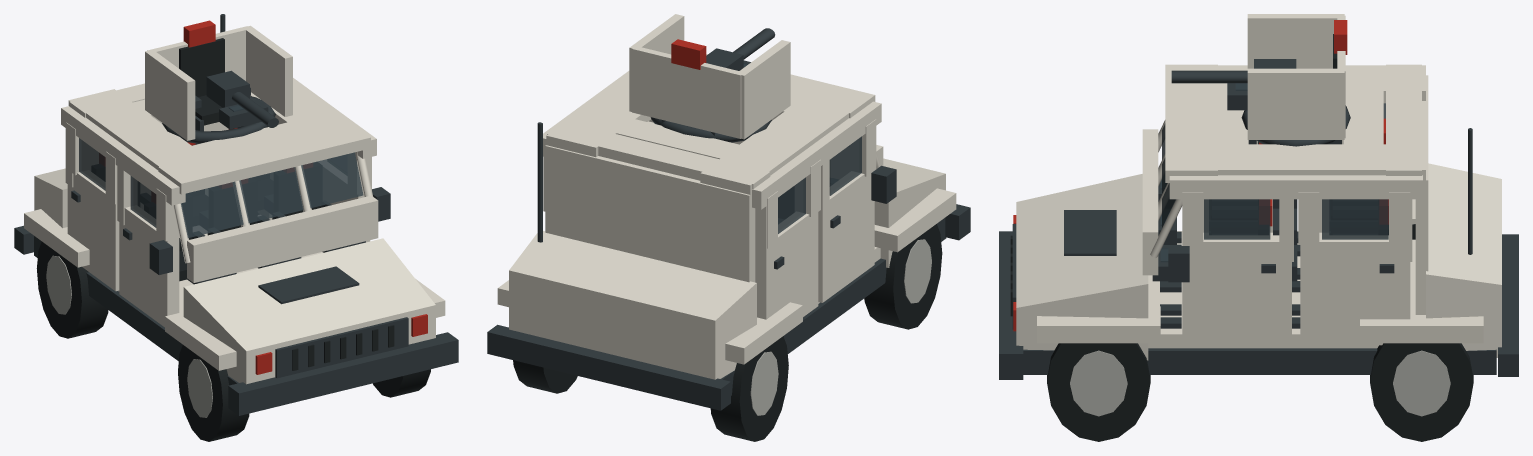
3 renders of one model, left to right at view 1: azimuth 30°, elevation 25°; view 2: azimuth 150°, elevation 25°; view 3: azimuth 270°, elevation 25°, orthographic. The views are drawn at different scales.
Visible parts, largest first — view 1: humvee-fleet-armor, humvee-fleet-machine, humvee-fleet-glass, turret-fleet-armor, crew-chair-gunner-painted, wheel--1--1.54-fleet-rubber, wheel--1-1.52-fleet-rubber, crew-chair-front-center-painted, crew-chair-passenger-painted, barrel-fleet-machine, wheel--1-1.52-fleet-edge, wheel--1--1.54-fleet-edge (+7 smaller); view 2: humvee-fleet-armor, humvee-fleet-machine, turret-fleet-armor, wheel--1-1.52-fleet-rubber, wheel--1--1.54-fleet-rubber, humvee-fleet-glass, wheel--1-1.52-fleet-edge, wheel--1--1.54-fleet-edge, wheel-1--1.54-fleet-rubber, barrel-fleet-machine, crew-chair-gunner-painted, turret-fleet-machine; view 3: humvee-fleet-armor, humvee-fleet-machine, turret-fleet-armor, humvee-fleet-glass, wheel-1--1.54-fleet-rubber, wheel-1-1.52-fleet-rubber, wheel-1--1.54-fleet-edge, wheel-1-1.52-fleet-edge, barrel-fleet-machine, crew-chair-passenger-painted, crew-chair-front-center-painted, crew-chair-rear-center-painted (+5 smaller).
Part boxes in pixels (bbox=[...]): humvee-fleet-armor: bbox=[24, 78, 445, 384]; humvee-fleet-machine: bbox=[14, 14, 458, 415]; humvee-fleet-glass: bbox=[79, 138, 363, 238]; turret-fleet-armor: bbox=[145, 25, 292, 140]; crew-chair-gunner-painted: bbox=[179, 20, 268, 131]; wheel--1--1.54-fleet-rubber: bbox=[36, 241, 108, 338]; wheel--1-1.52-fleet-rubber: bbox=[178, 345, 249, 441]; crew-chair-front-center-painted: bbox=[207, 178, 300, 273]; crew-chair-passenger-painted: bbox=[272, 162, 365, 257]; barrel-fleet-machine: bbox=[206, 70, 278, 127]; wheel--1-1.52-fleet-edge: bbox=[187, 359, 212, 417]; wheel--1--1.54-fleet-edge: bbox=[46, 255, 71, 314]; humvee-fleet-armor: bbox=[497, 54, 956, 379]; humvee-fleet-machine: bbox=[487, 122, 970, 410]; turret-fleet-armor: bbox=[629, 14, 790, 139]; wheel--1-1.52-fleet-rubber: bbox=[864, 224, 942, 329]; wheel--1--1.54-fleet-rubber: bbox=[710, 336, 788, 441]; humvee-fleet-glass: bbox=[778, 136, 861, 233]; wheel--1-1.52-fleet-edge: bbox=[904, 239, 931, 303]; wheel--1--1.54-fleet-edge: bbox=[750, 351, 778, 415]; wheel-1--1.54-fleet-rubber: bbox=[513, 360, 577, 393]; barrel-fleet-machine: bbox=[706, 28, 775, 70]; crew-chair-gunner-painted: bbox=[661, 39, 750, 135]; turret-fleet-machine: bbox=[650, 117, 771, 142]; humvee-fleet-armor: bbox=[1016, 64, 1501, 360]; humvee-fleet-machine: bbox=[999, 128, 1518, 379]; turret-fleet-armor: bbox=[1247, 14, 1345, 139]; humvee-fleet-glass: bbox=[1162, 103, 1388, 239]; wheel-1--1.54-fleet-rubber: bbox=[1370, 343, 1473, 441]; wheel-1-1.52-fleet-rubber: bbox=[1047, 343, 1150, 441]; wheel-1--1.54-fleet-edge: bbox=[1393, 350, 1450, 416]; wheel-1-1.52-fleet-edge: bbox=[1070, 350, 1127, 416]; barrel-fleet-machine: bbox=[1171, 59, 1296, 83]; crew-chair-passenger-painted: bbox=[1152, 199, 1272, 328]; crew-chair-front-center-painted: bbox=[1158, 200, 1258, 292]; crew-chair-rear-center-painted: bbox=[1273, 206, 1377, 292].
Size of the model in its own units: 15.81 by 20.28 by 26.84.
